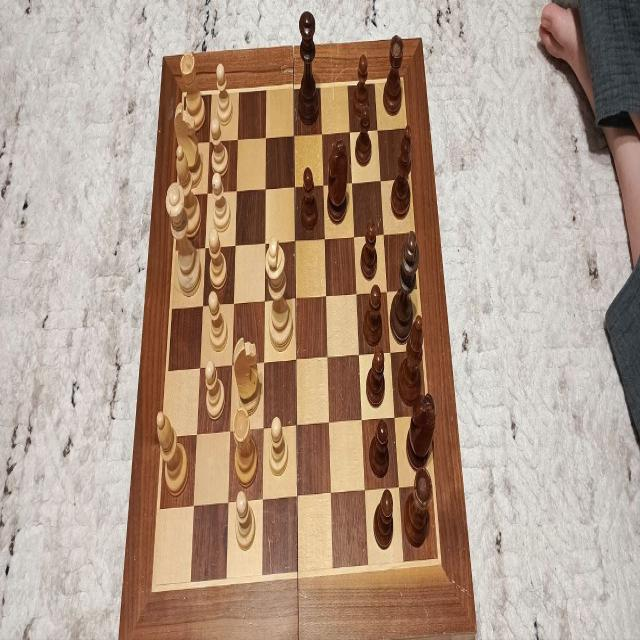black_bishop: (396, 315, 424, 406), (390, 125, 412, 220)
black_king: (389, 230, 420, 340)
black_knight: (406, 392, 436, 472), (327, 137, 348, 225)
black_pawn: (373, 488, 394, 550), (363, 283, 383, 348), (368, 417, 390, 476), (352, 54, 370, 124), (365, 346, 386, 406), (300, 167, 318, 230), (354, 106, 372, 166), (360, 222, 378, 278)
black_queen: (296, 12, 320, 126)
black_rook: (403, 466, 433, 548), (382, 34, 404, 116)
white_bishop: (157, 410, 189, 499), (176, 145, 201, 238)
white_king: (265, 236, 293, 352)
white_knight: (174, 102, 202, 189), (233, 335, 260, 417)
white_pawn: (204, 359, 224, 420), (208, 229, 227, 292), (236, 489, 256, 547), (269, 414, 288, 474), (212, 170, 230, 232), (216, 63, 233, 127), (210, 119, 228, 179), (208, 292, 226, 348)
white_queen: (165, 181, 202, 298)
white_rook: (180, 50, 205, 134), (233, 408, 258, 490)
